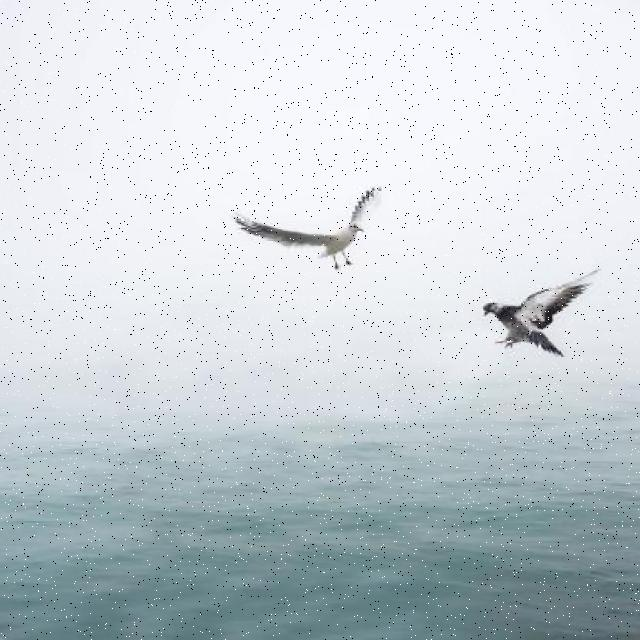bird: (228, 187, 387, 273), (482, 274, 598, 358)
